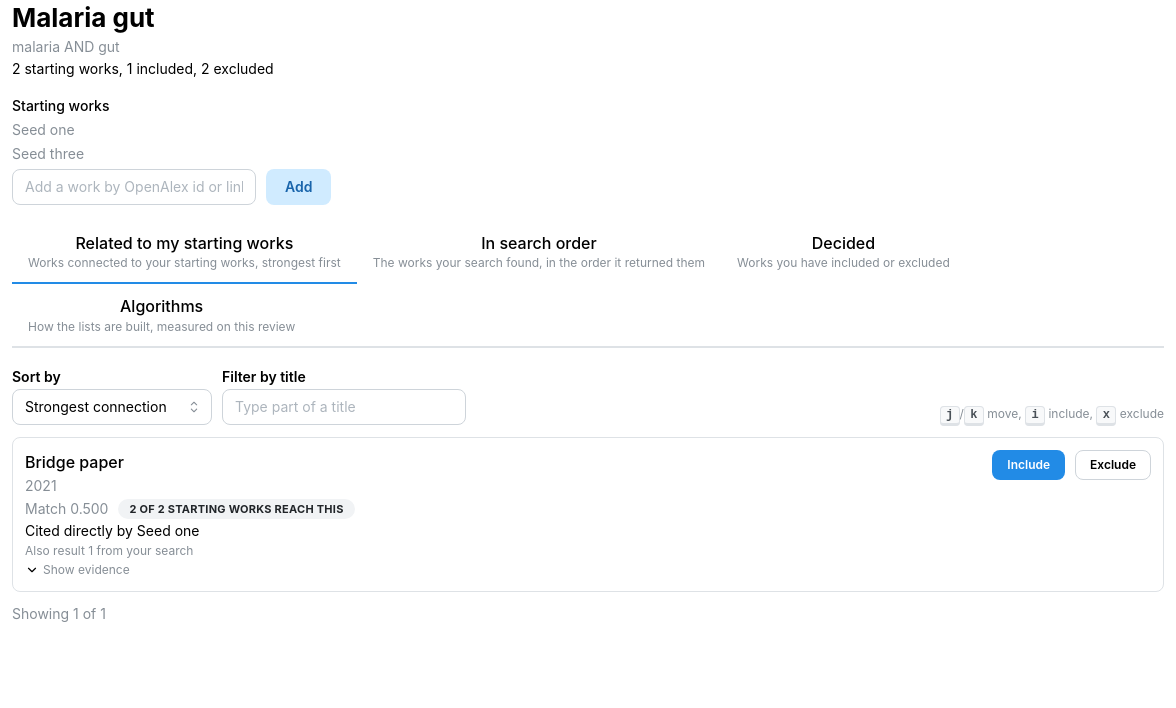
Test case: ReviewScreen › hides codenames behind the technical toggle and notifies what re-ranks on a switch
This screenshot has width=1176, height=708.
Click the tab "Algorithms How the lists are built, measured on this review" at (162, 316), box [12,284,311,348]
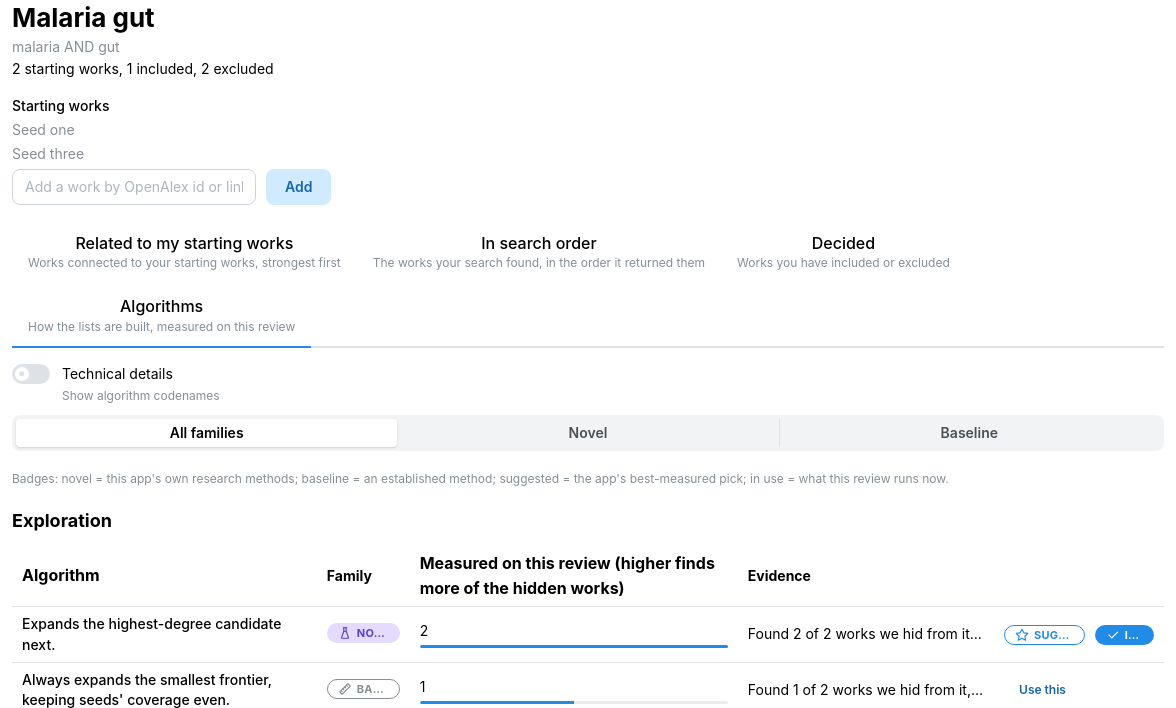
Expected: the text "DOME" is not shown
Click the button named "Use Always expands the smallest frontier, keeping seeds' coverage even." at (1043, 690), box [1004,675,1081,705]
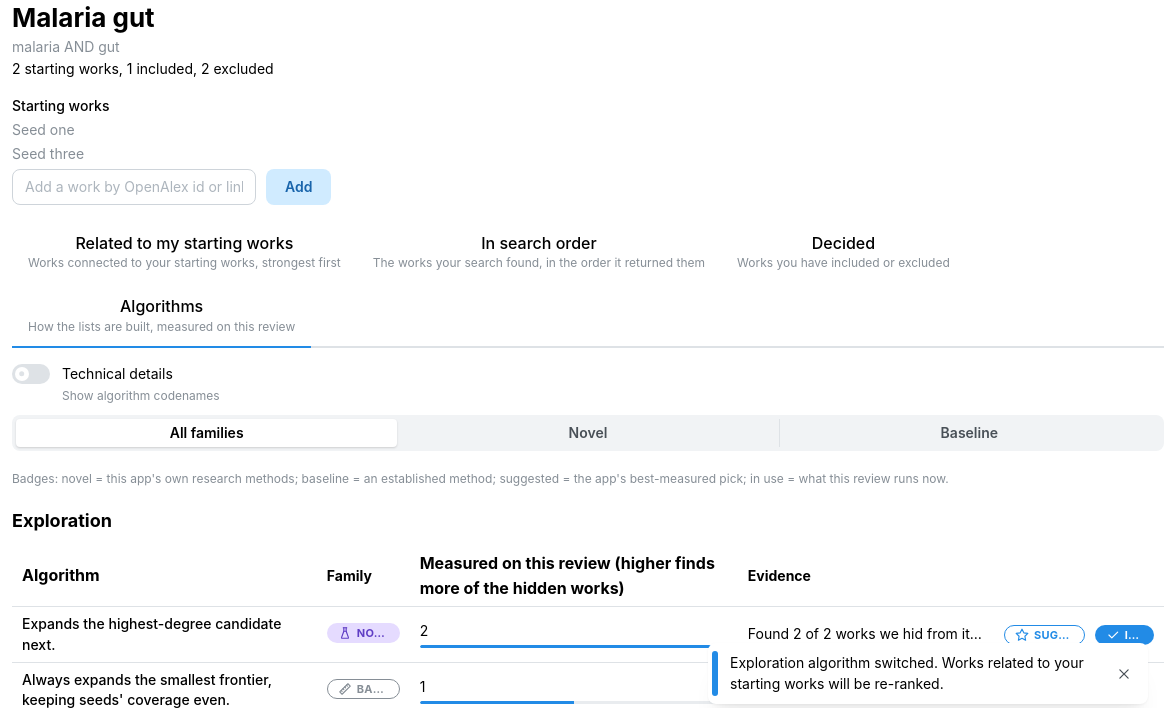
Expected: the text "now runs" is not shown
Now the text "Exploration algorithm switched. Works related to your starting works will be re-ranked" is shown, box [730,654,1084,692]
Click the switch labelled "Technical details Show algorithm codenames" at (116, 383), box [12,364,220,403]
(page scrolled)
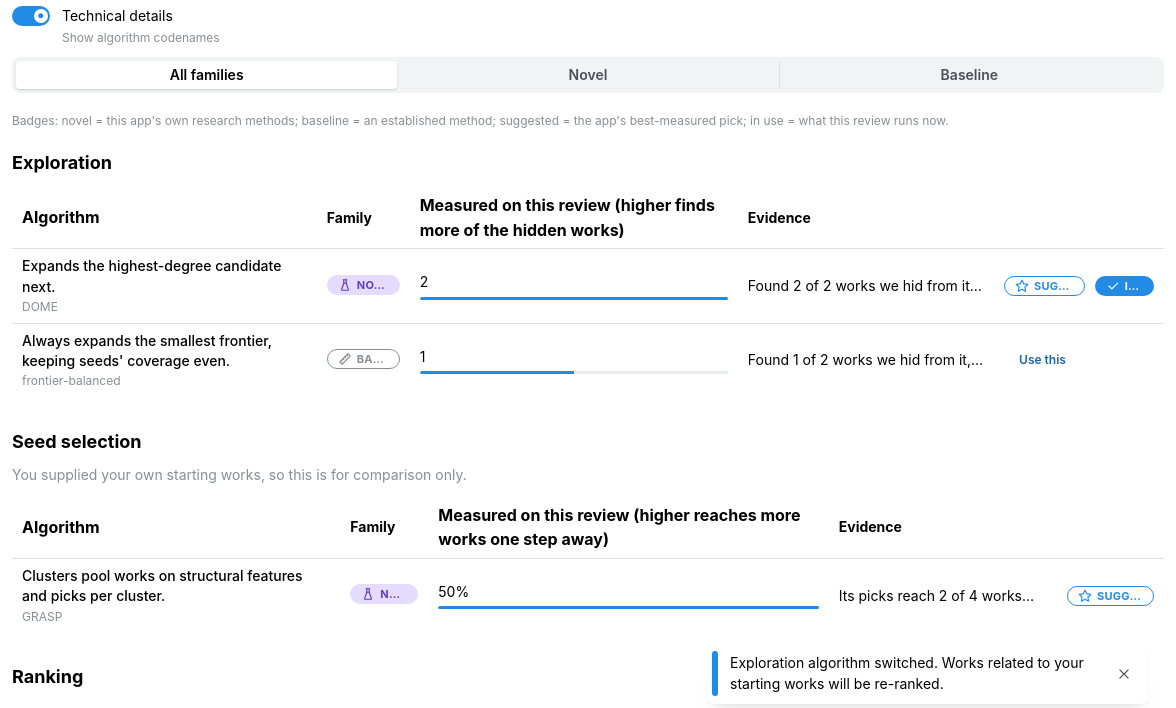
Now the text "DOME" is shown, box [22,299,58,314]
Click the button with aria-label "Use frontier-balanced" at (1043, 360), box [1004,345,1081,375]
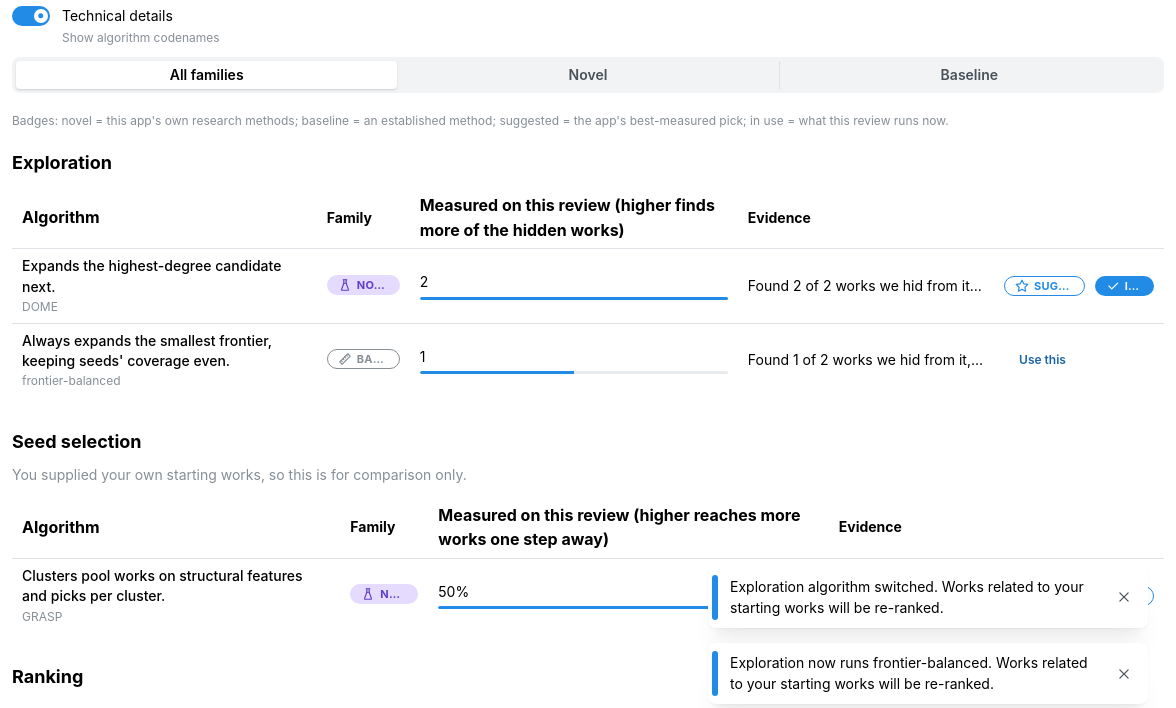
Now the text "Exploration now runs frontier-balanced" is shown, box [730,654,1088,692]
